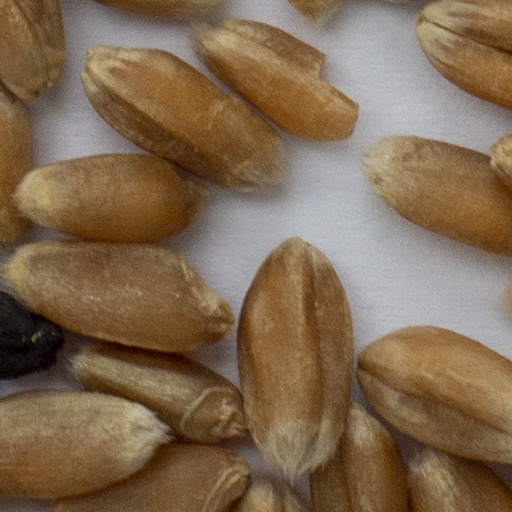Agrostemma-poly: (0, 292, 63, 379)
